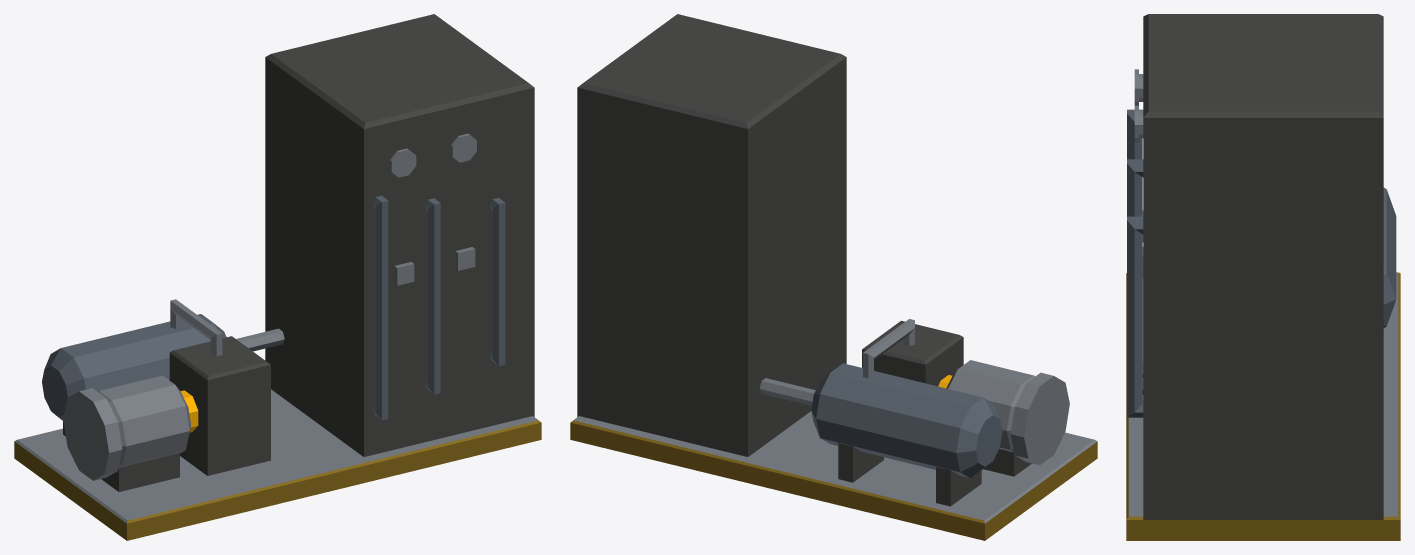
Rendered from cryoplant.glb.
3 views of the same model, side by side, from view 1: azimuth 30°, elevation 25°; view 2: azimuth 150°, elevation 25°; view 3: azimuth 270°, elevation 25° (orthographic). The views are drawn at different scales.
Visible parts, largest first — view 1: cryoplant; view 2: cryoplant; view 3: cryoplant.
Boxes of the visible parts, x1,y1,x2,y2 form: cryoplant: (14,14,541,540); cryoplant: (570,14,1097,540); cryoplant: (1126,14,1400,540).
Bounding box in the file's own units: 3.4 × 2.75 × 1.6.
